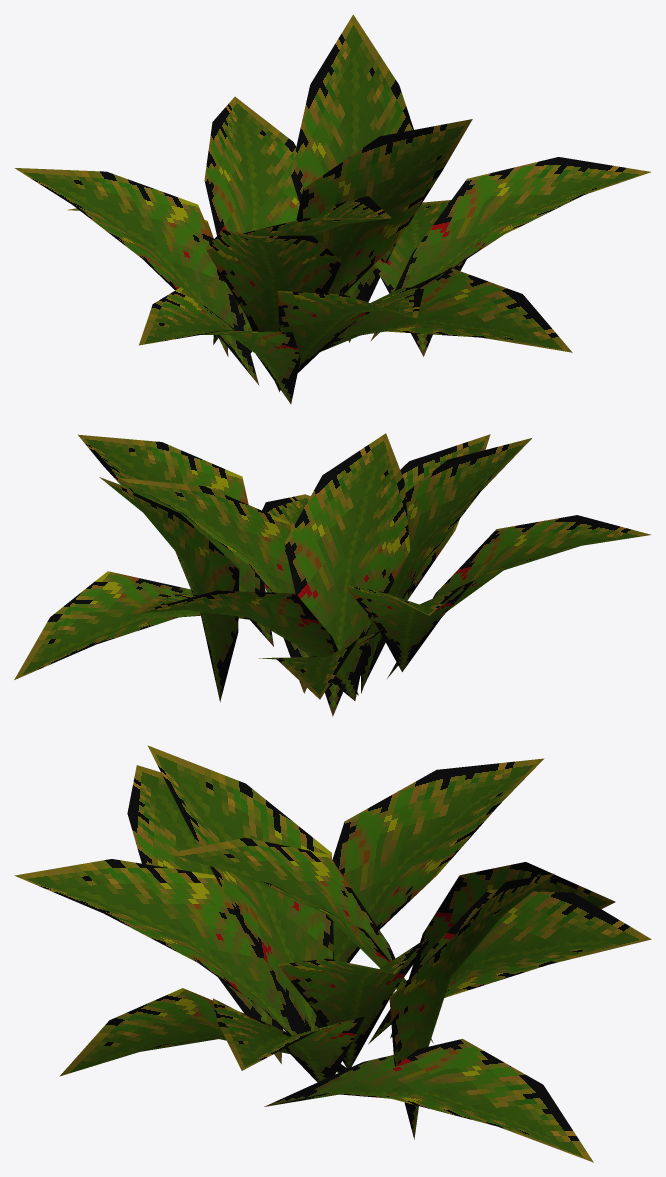
Rendered from plants_area03_seaweed02.gltf.
3 renders of one model, top to bottom at view 1: azimuth 30°, elevation 25°; view 2: azimuth 150°, elevation 25°; view 3: azimuth 270°, elevation 25°, orthographic. The views are drawn at different scales.
Parts seen in each view (by area): view 1: plants_area03_seaweed02; view 2: plants_area03_seaweed02; view 3: plants_area03_seaweed02.
Part boxes in pixels (<box>): plants_area03_seaweed02: <box>14,14,650,403</box>; plants_area03_seaweed02: <box>14,433,651,716</box>; plants_area03_seaweed02: <box>14,745,651,1162</box>.
Size of the model in its own units: 3.89 by 1.77 by 3.38.
1 material, 1 textured.
